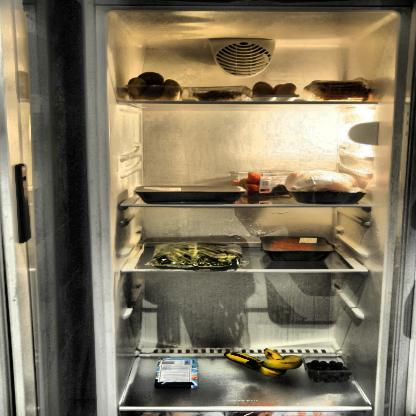banana: (221, 348, 304, 379)
beef: (263, 236, 329, 253)
blueberries: (304, 357, 360, 384)
chicken: (289, 170, 363, 201)
chocolate: (155, 355, 200, 390)
eggs: (253, 82, 300, 98)
green_beans: (152, 240, 244, 270)
potato: (124, 70, 182, 100)
shrimp: (190, 86, 251, 103)
strawberries: (235, 172, 284, 198)
